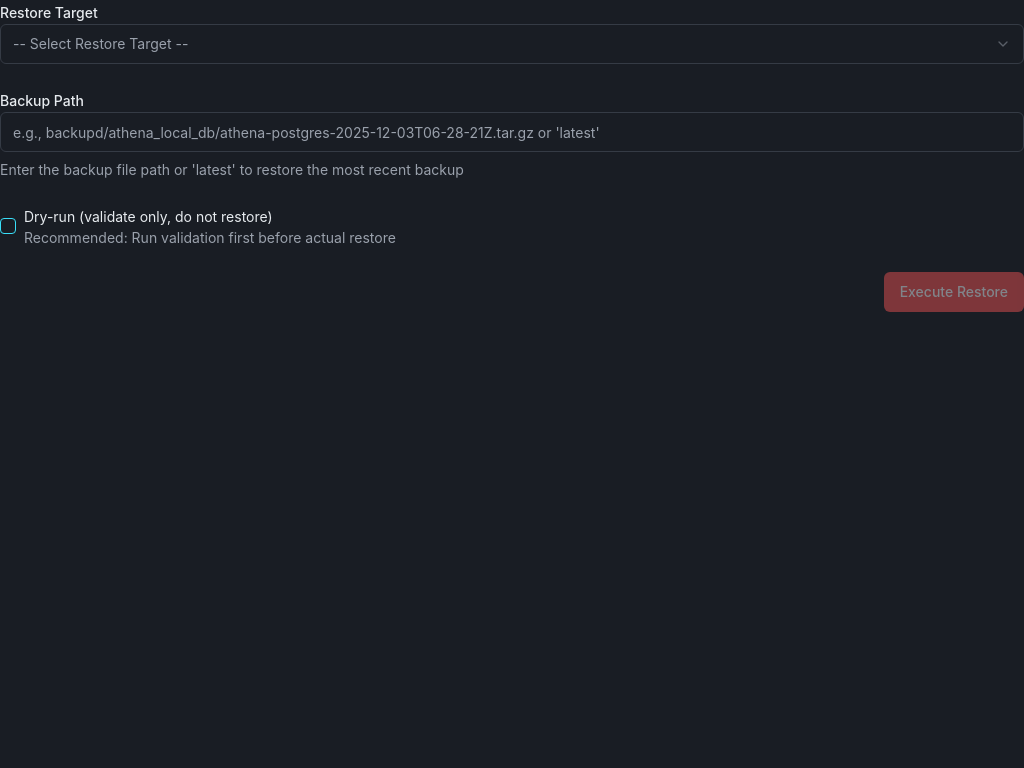
Test case: RestoreForm Component › cancels restore from confirmation dialog
The width and height of the screenshot is (1024, 768).
# Select target and path
Click the dropdown labelled "-- Select Restore Target --": [101, 44] box [0, 24, 1023, 64]
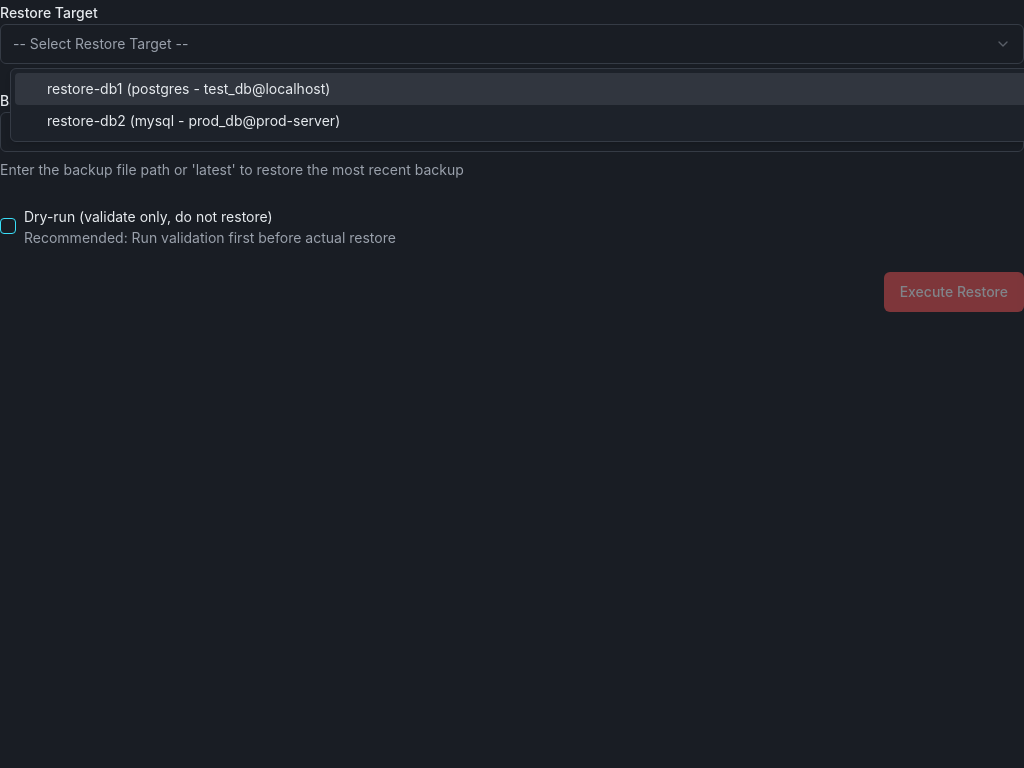
Click the option "restore-db1 (postgres - test_db@localhost)": [85, 88] box [15, 73, 1023, 105]
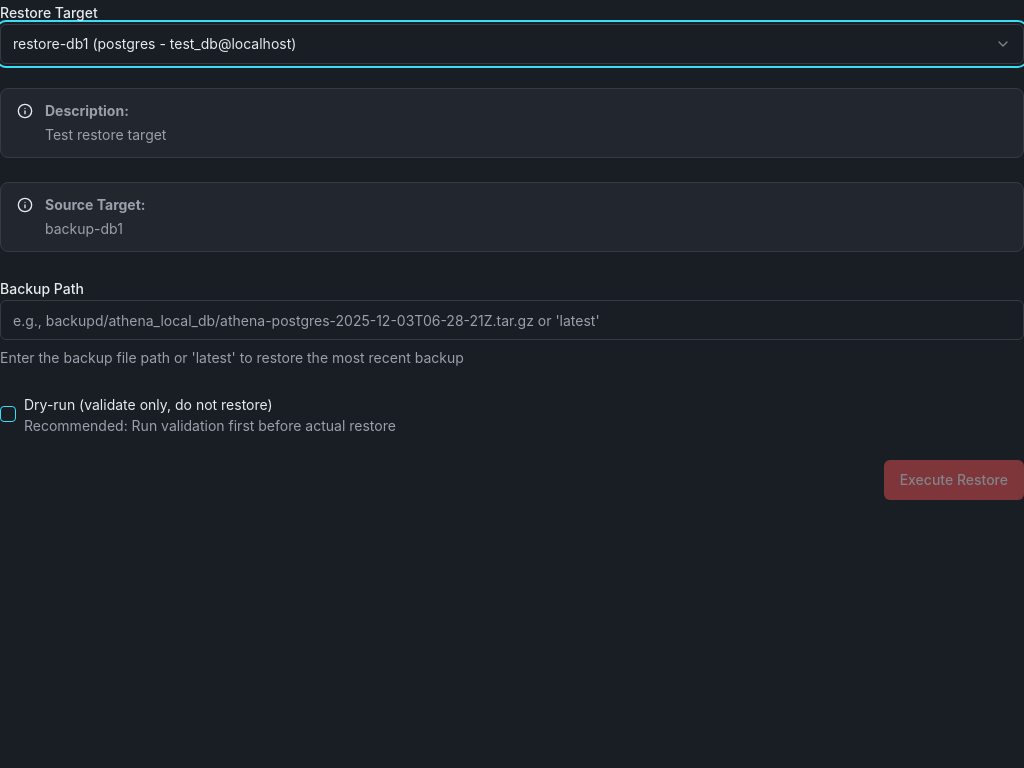
In the dropdown labelled "Backup Path": [512, 320] box [0, 300, 1023, 340], type "/backups/test.sql"
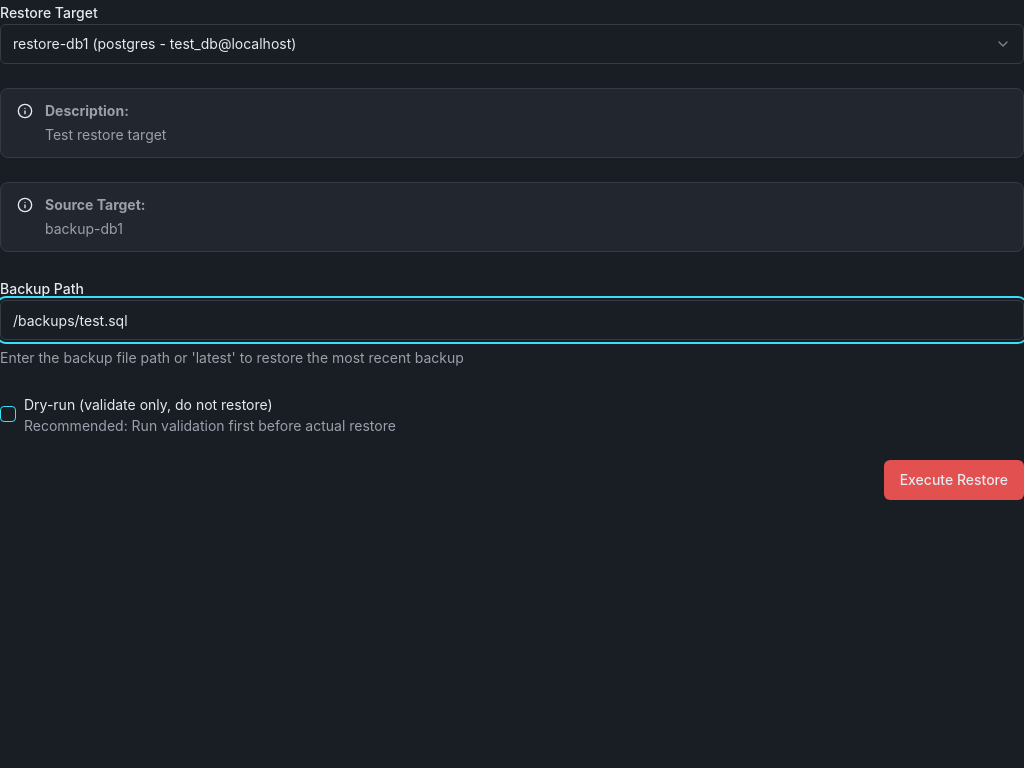
# Dry-run is off by default, submit
Click the button "Execute Restore": [954, 480] box [884, 460, 1023, 500]
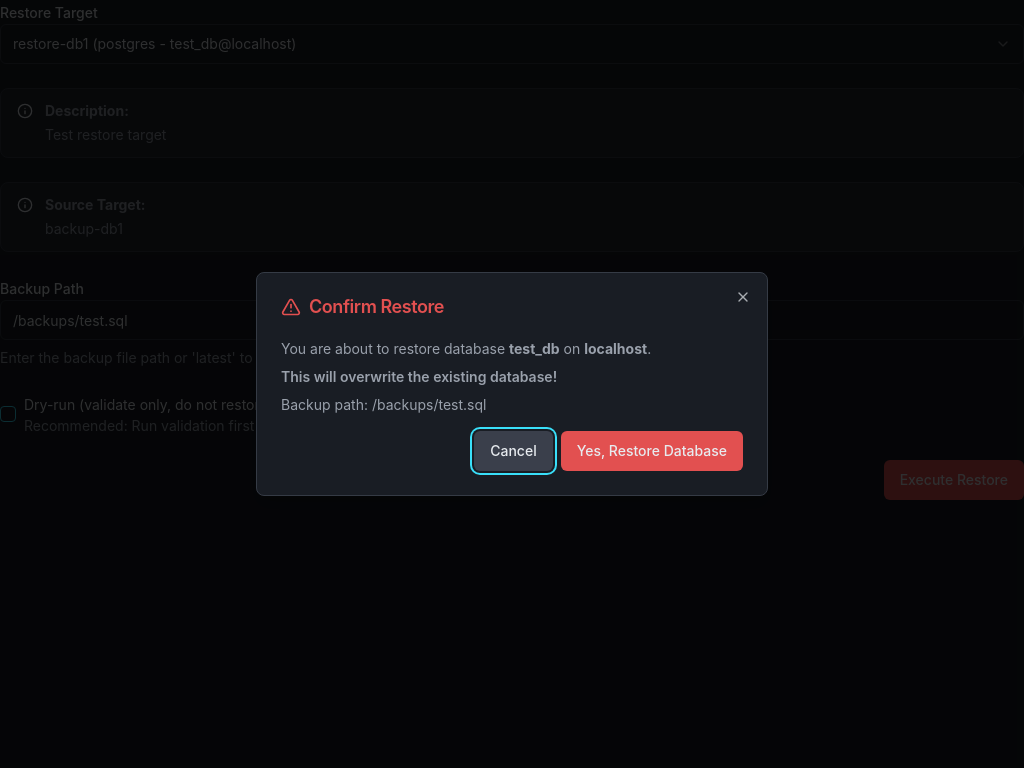
Result: the heading "Confirm Restore" is shown at [281, 296, 444, 317]
Click the button "Cancel": [513, 451] box [474, 431, 553, 471]
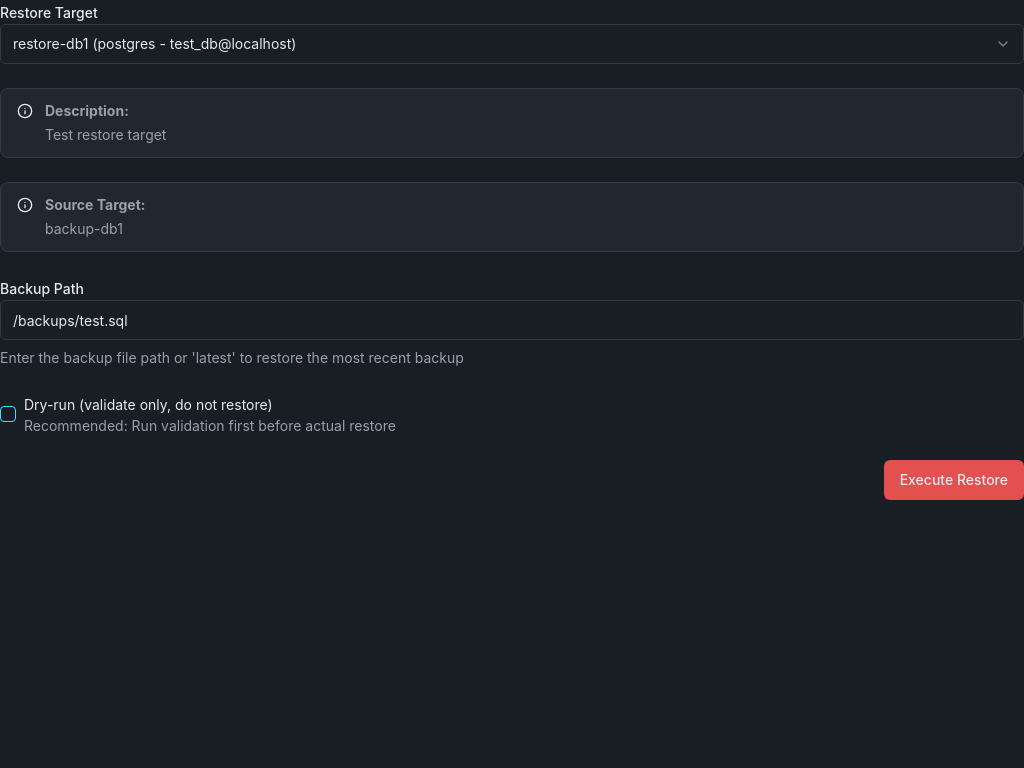
Result: the heading "Confirm Restore" is gone
